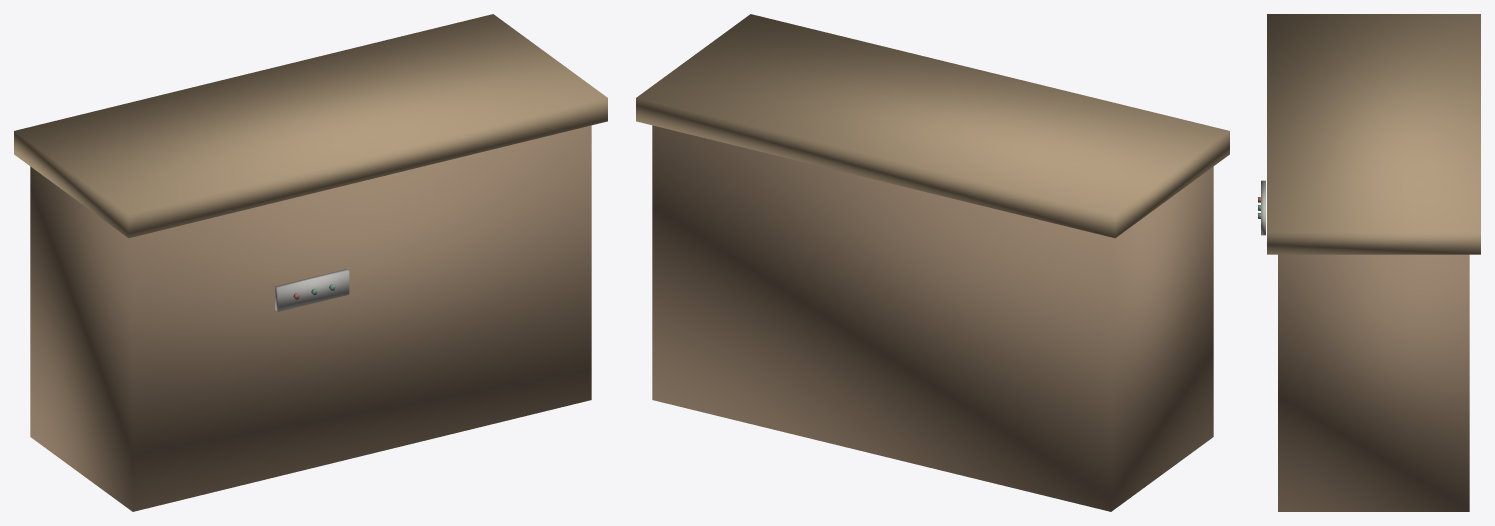
Rendered from clinic_reception_counter__compact.glb.
The picture shows the model from 3 angles, left to right: view 1: azimuth 30°, elevation 25°; view 2: azimuth 150°, elevation 25°; view 3: azimuth 270°, elevation 25°; orthographic projection. The views are drawn at different scales.
Parts seen in each view (by area): view 1: world; view 2: world; view 3: world.
Boxes of the visible parts, x1,y1,x2,y2 form: world: [14, 14, 607, 511]; world: [636, 14, 1229, 511]; world: [1258, 14, 1480, 511].
Size of the model in its own units: 1.58 by 0.9579 by 0.6803.
